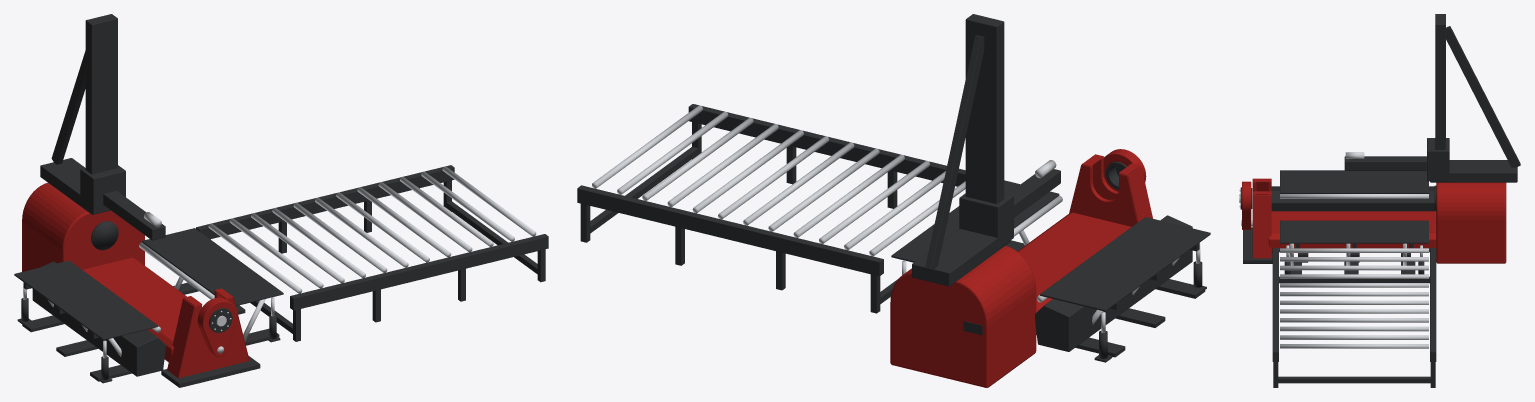
File: machine.glb
3 renders of one model, left to right at view 1: azimuth 30°, elevation 25°; view 2: azimuth 150°, elevation 25°; view 3: azimuth 270°, elevation 25°, orthographic. The views are drawn at different scales.
Parts seen in each view (by area): view 1: DriveHousing, TowerColumn, SupportTableL, SupportTableR, TableBeam1.53, LowerBody, TableBeam-1.53, EjectorJ, FrontFrame1, TowerCarriage, TowerBase, Yoke (+19 smaller); view 2: DriveHousing, SupportTableL, TowerColumn, TableBeam-1.53, LowerBody, EjectorJ, TableBeam1.53, TowerBrace, TowerBase, FrontFrame0, TowerCarriage, SupportTableR (+19 smaller); view 3: DriveHousing, SupportTableR, SupportTableL, LowerBody, EjectorJ, TowerBrace, TowerBase, TowerColumn, FrontCoverSideR, TableCross6.42, TowerArm, TableRoller2 (+18 smaller).
Boxes of the visible parts, x1,y1,x2,y2 form: DriveHousing: (22, 182, 144, 271); TowerColumn: (85, 14, 117, 174); SupportTableL: (14, 260, 158, 340); SupportTableR: (142, 228, 283, 305); TableBeam1.53: (290, 234, 548, 310); LowerBody: (82, 257, 186, 361); TableBeam-1.53: (196, 165, 454, 239); EjectorJ: (32, 261, 166, 376); FrontFrame1: (179, 297, 248, 377); TowerCarriage: (80, 165, 125, 214); TowerBase: (40, 158, 92, 214); Yoke: (197, 297, 237, 356); DriveHousing: (890, 245, 1036, 387); SupportTableL: (1040, 217, 1210, 311); TowerColumn: (965, 14, 1004, 203); TableBeam-1.53: (577, 185, 883, 276); LowerBody: (1017, 212, 1131, 312); EjectorJ: (1035, 215, 1192, 351); TableBeam1.53: (688, 104, 965, 186); TowerBrace: (925, 35, 984, 268); TowerBase: (912, 229, 1010, 286); FrontFrame0: (1070, 165, 1137, 226); TowerCarriage: (959, 193, 1013, 249); SupportTableR: (891, 180, 1059, 262); DriveHousing: (1436, 182, 1506, 263); SupportTableR: (1280, 220, 1428, 243); SupportTableL: (1280, 170, 1428, 193); LowerBody: (1268, 211, 1436, 252); EjectorJ: (1271, 186, 1434, 211); TowerBrace: (1446, 26, 1520, 167); TowerBase: (1430, 160, 1517, 182); TowerColumn: (1435, 14, 1445, 149); FrontCoverSideR: (1252, 195, 1271, 258); TableCross6.42: (1276, 376, 1432, 383); TowerArm: (1344, 156, 1426, 170); TableRoller2: (1280, 265, 1428, 270).
Bounding box in the file's own units: 8.3 × 4.9 × 5.47.
